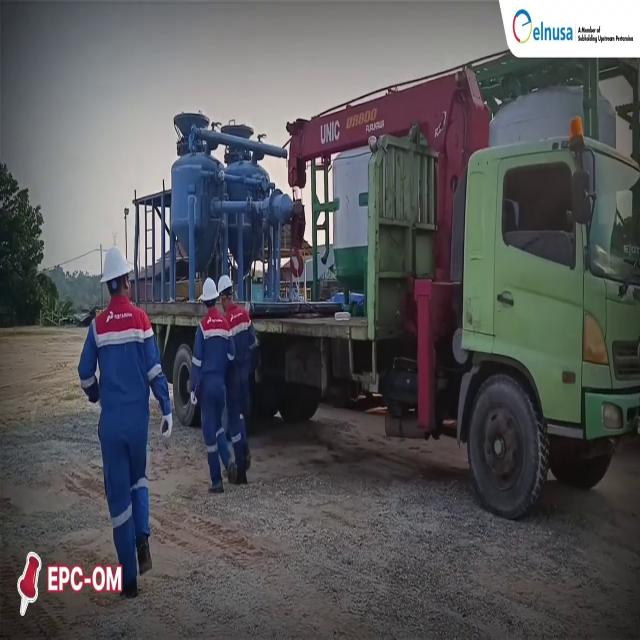Gloves: (161, 417, 175, 440)
Hardhat: (98, 250, 134, 284), (198, 274, 217, 298), (214, 275, 233, 299)
Overall Suit: (78, 296, 172, 570), (192, 306, 234, 468), (228, 305, 257, 456)
Safety Boots: (136, 534, 153, 573), (122, 574, 138, 596), (210, 473, 223, 496), (226, 461, 240, 479)
